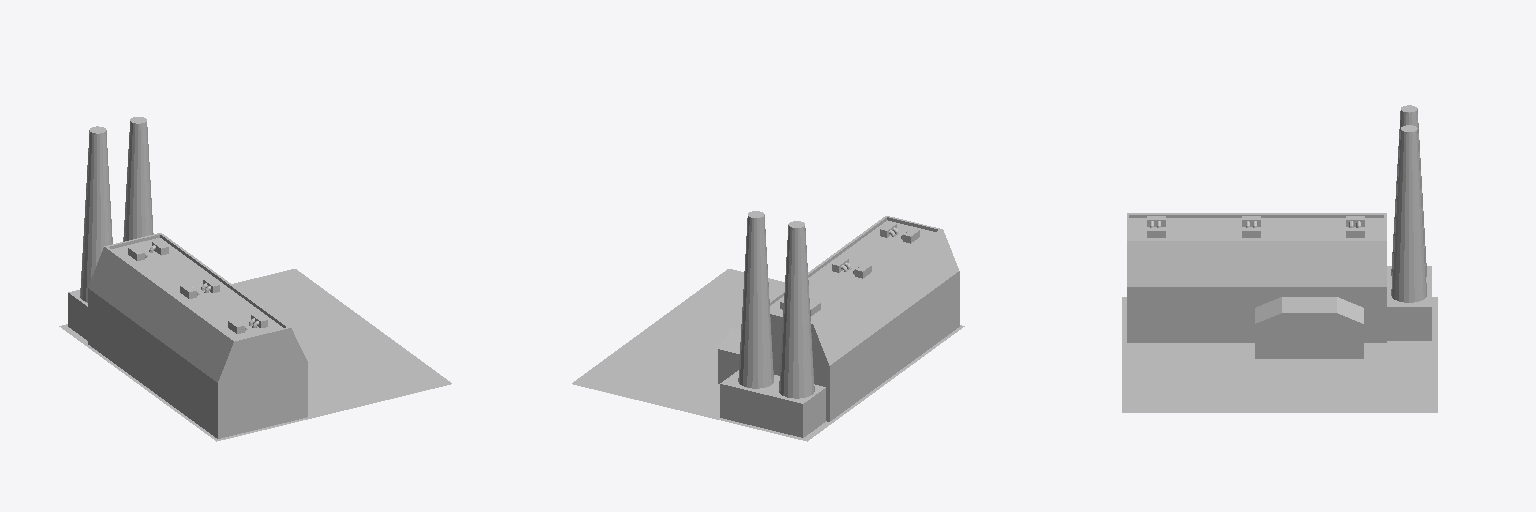
The model's file is Factory.obj.
3 renders of one model, left to right at view 1: azimuth 30°, elevation 25°; view 2: azimuth 150°, elevation 25°; view 3: azimuth 270°, elevation 25°, orthographic.
Parts seen in each view (by area): view 1: polySurface23; view 2: polySurface23; view 3: polySurface23.
Boxes of the visible parts, x1=… form: polySurface23: x1=59, y1=117, x2=451, y2=441; polySurface23: x1=572, y1=211, x2=964, y2=441; polySurface23: x1=1122, y1=105, x2=1437, y2=412.
Size of the model in its own units: 1.73 by 1.42 by 2.